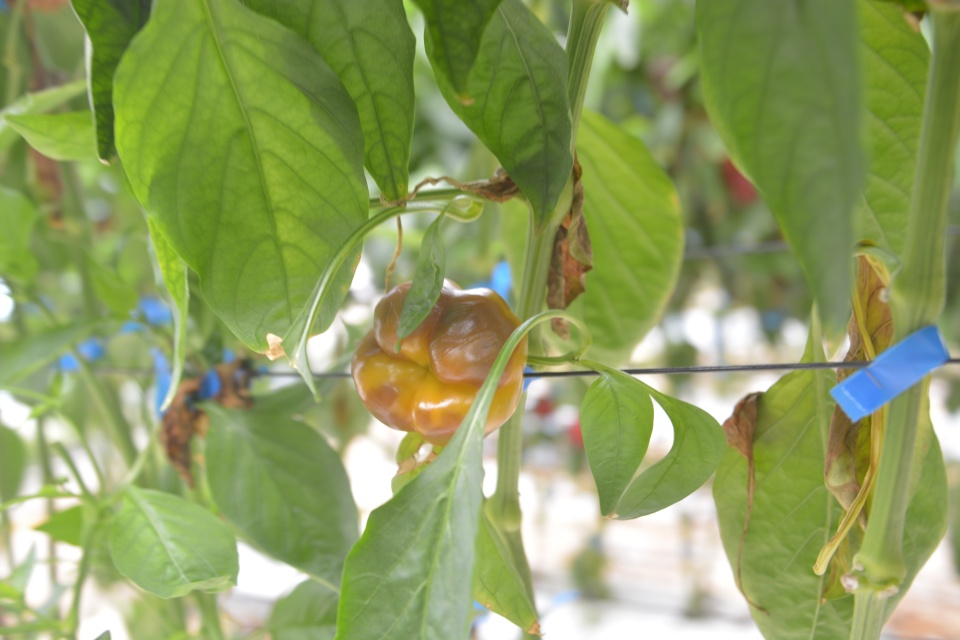fruit: (348, 275, 530, 447)
